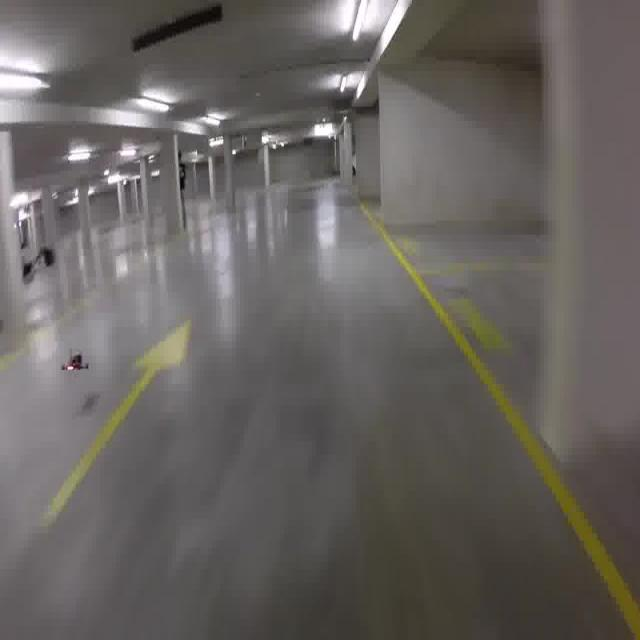drone: (63, 346, 91, 378)
